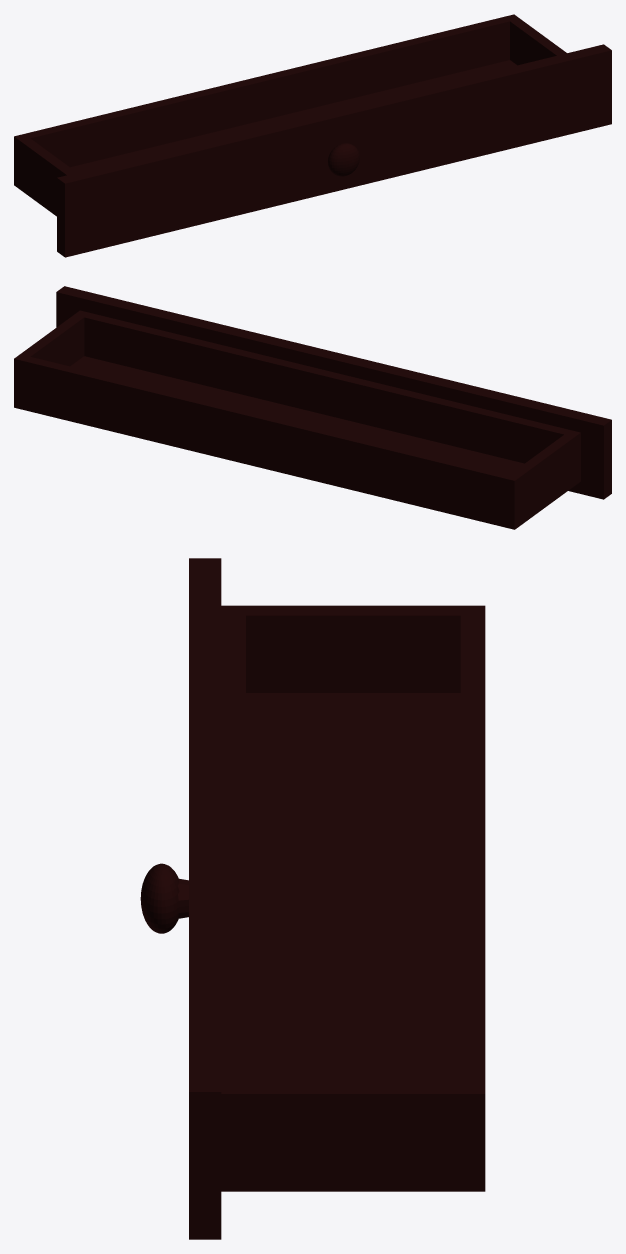
The model's file is Drawer.fbx.
3 renders of one model, top to bottom at view 1: azimuth 30°, elevation 25°; view 2: azimuth 150°, elevation 25°; view 3: azimuth 270°, elevation 25°, orthographic. The views are drawn at different scales.
Visible parts, largest first — view 1: Drawer; view 2: Drawer; view 3: Drawer.
Boxes of the visible parts, bbox=[...] form: Drawer: bbox=[14, 14, 611, 257]; Drawer: bbox=[14, 286, 611, 529]; Drawer: bbox=[140, 558, 485, 1239].
Bounding box in the file's own units: 164 × 21.15 × 44.69.
